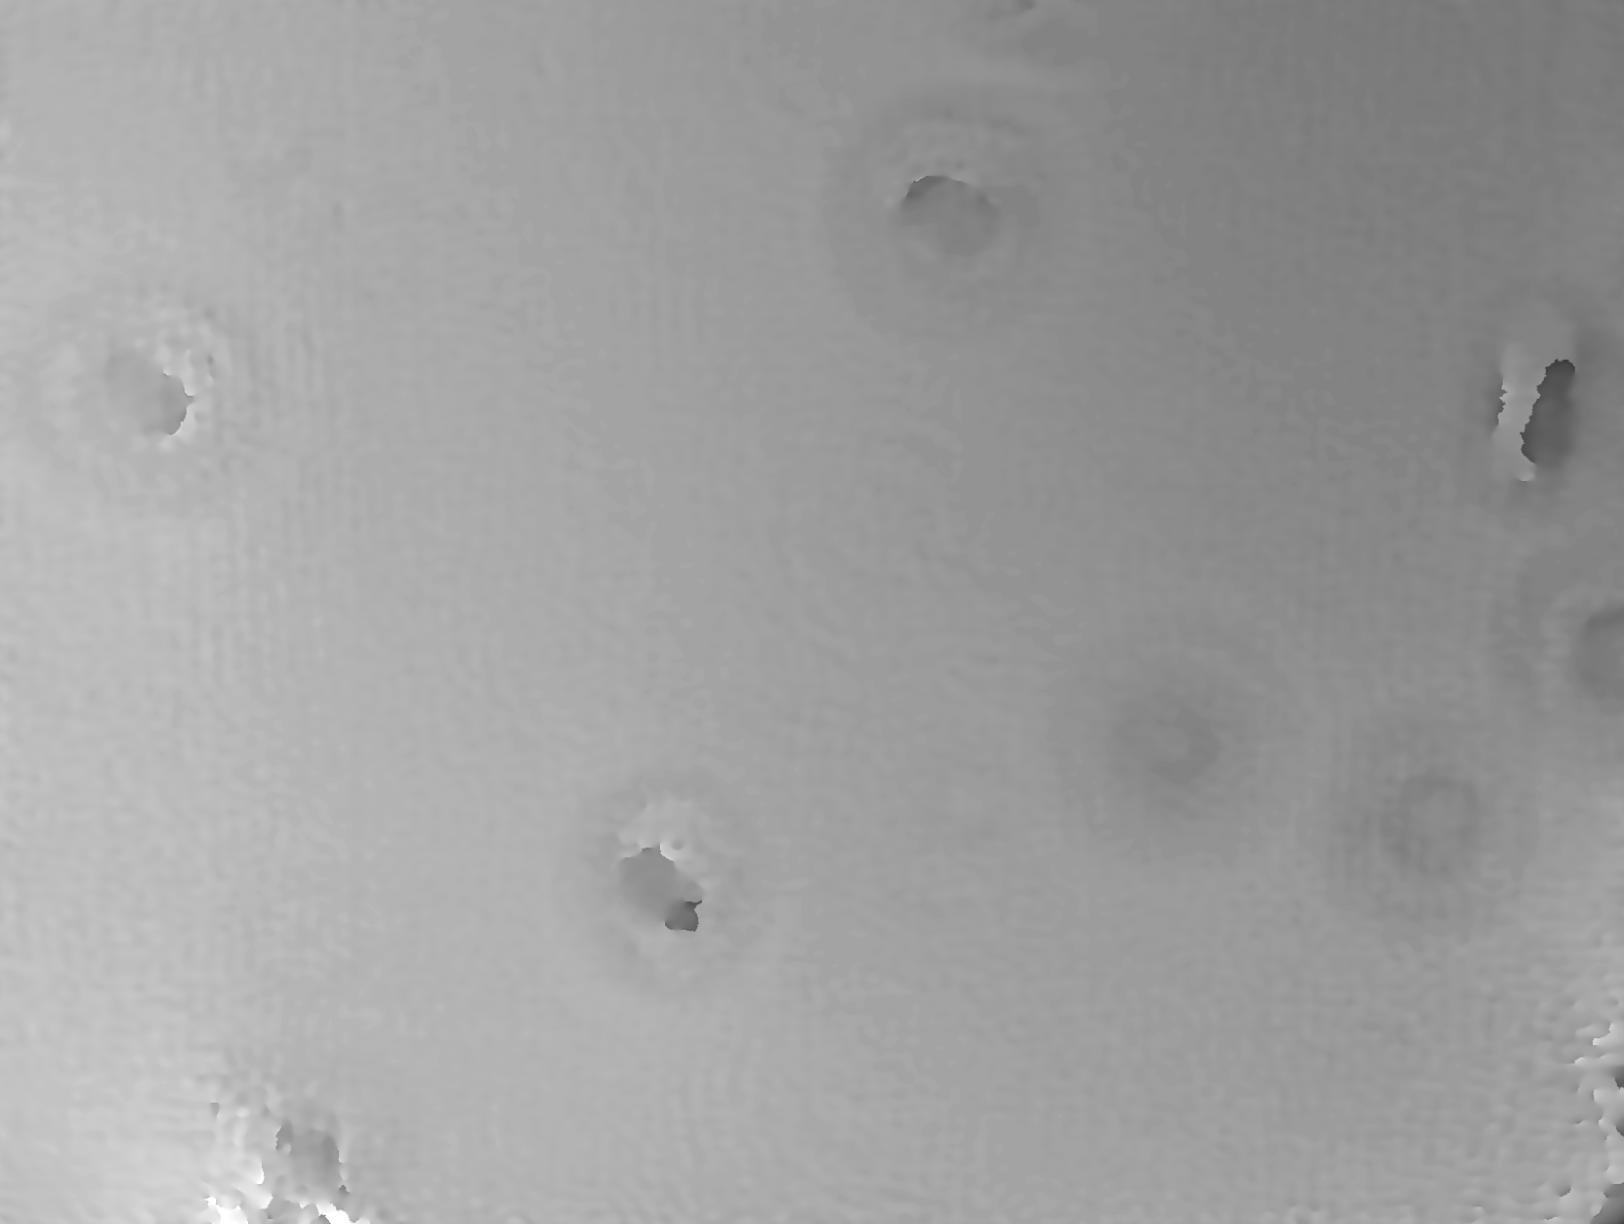cell: (1033, 591, 1336, 904), (802, 71, 1096, 364), (1292, 672, 1567, 964), (1, 255, 276, 541), (532, 747, 797, 1011)
